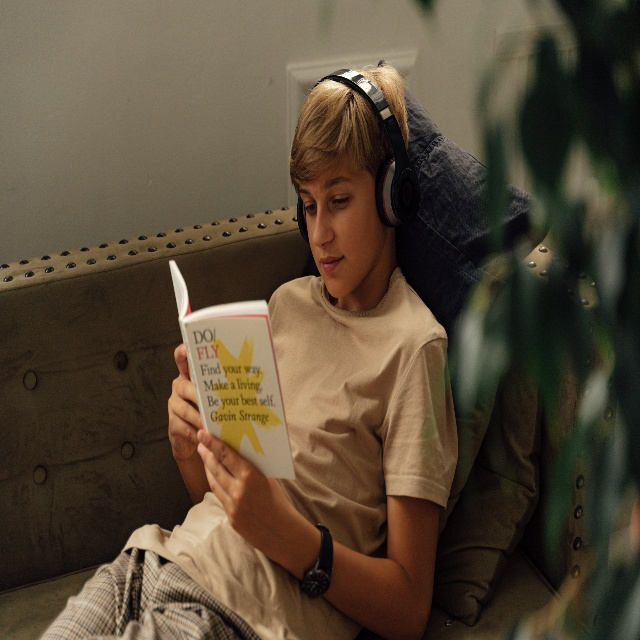Sin_guantes: (196, 429, 292, 565), (167, 343, 202, 461)
